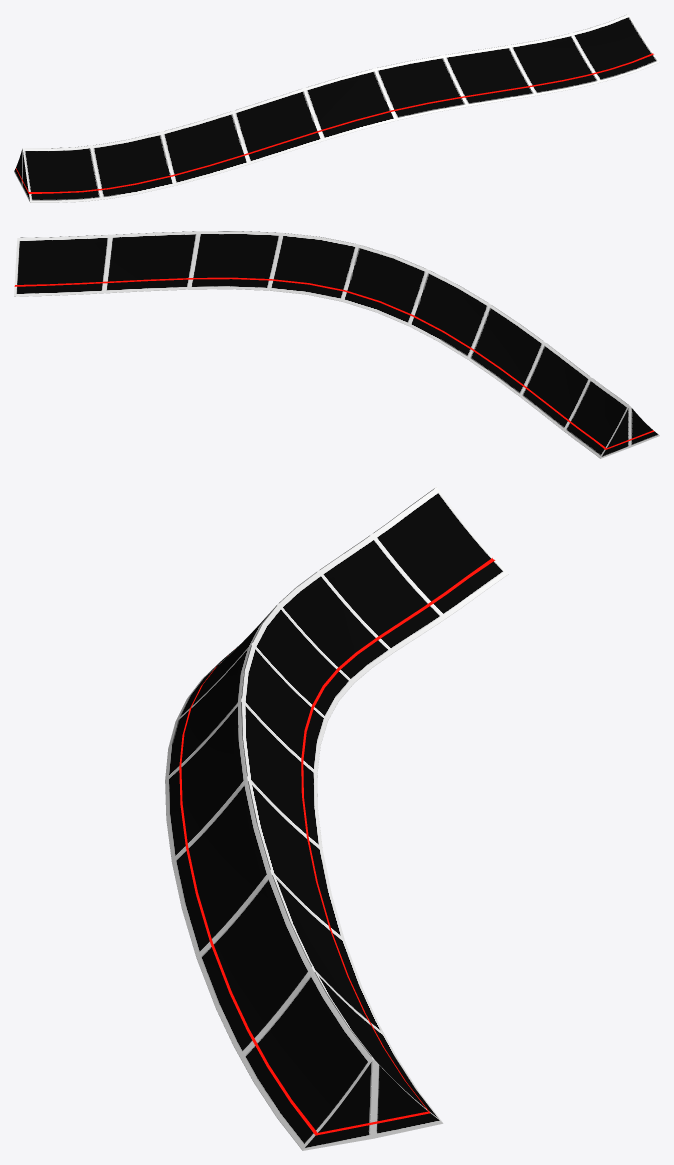
File: Circular-experiment3.fbx
3 renders of one model, top to bottom at view 1: azimuth 30°, elevation 25°; view 2: azimuth 150°, elevation 25°; view 3: azimuth 270°, elevation 25°, orthographic. The views are drawn at different scales.
Parts seen in each view (by area): view 1: ramp.004; view 2: ramp.004; view 3: ramp.004.
Boxes of the visible parts, left/top/right/bottom form: ramp.004: left=14, top=14, right=659, bottom=202; ramp.004: left=14, top=231, right=659, bottom=458; ramp.004: left=165, top=487, right=508, bottom=1150.
Bounding box in the file's own units: 491 × 62.01 × 119.
